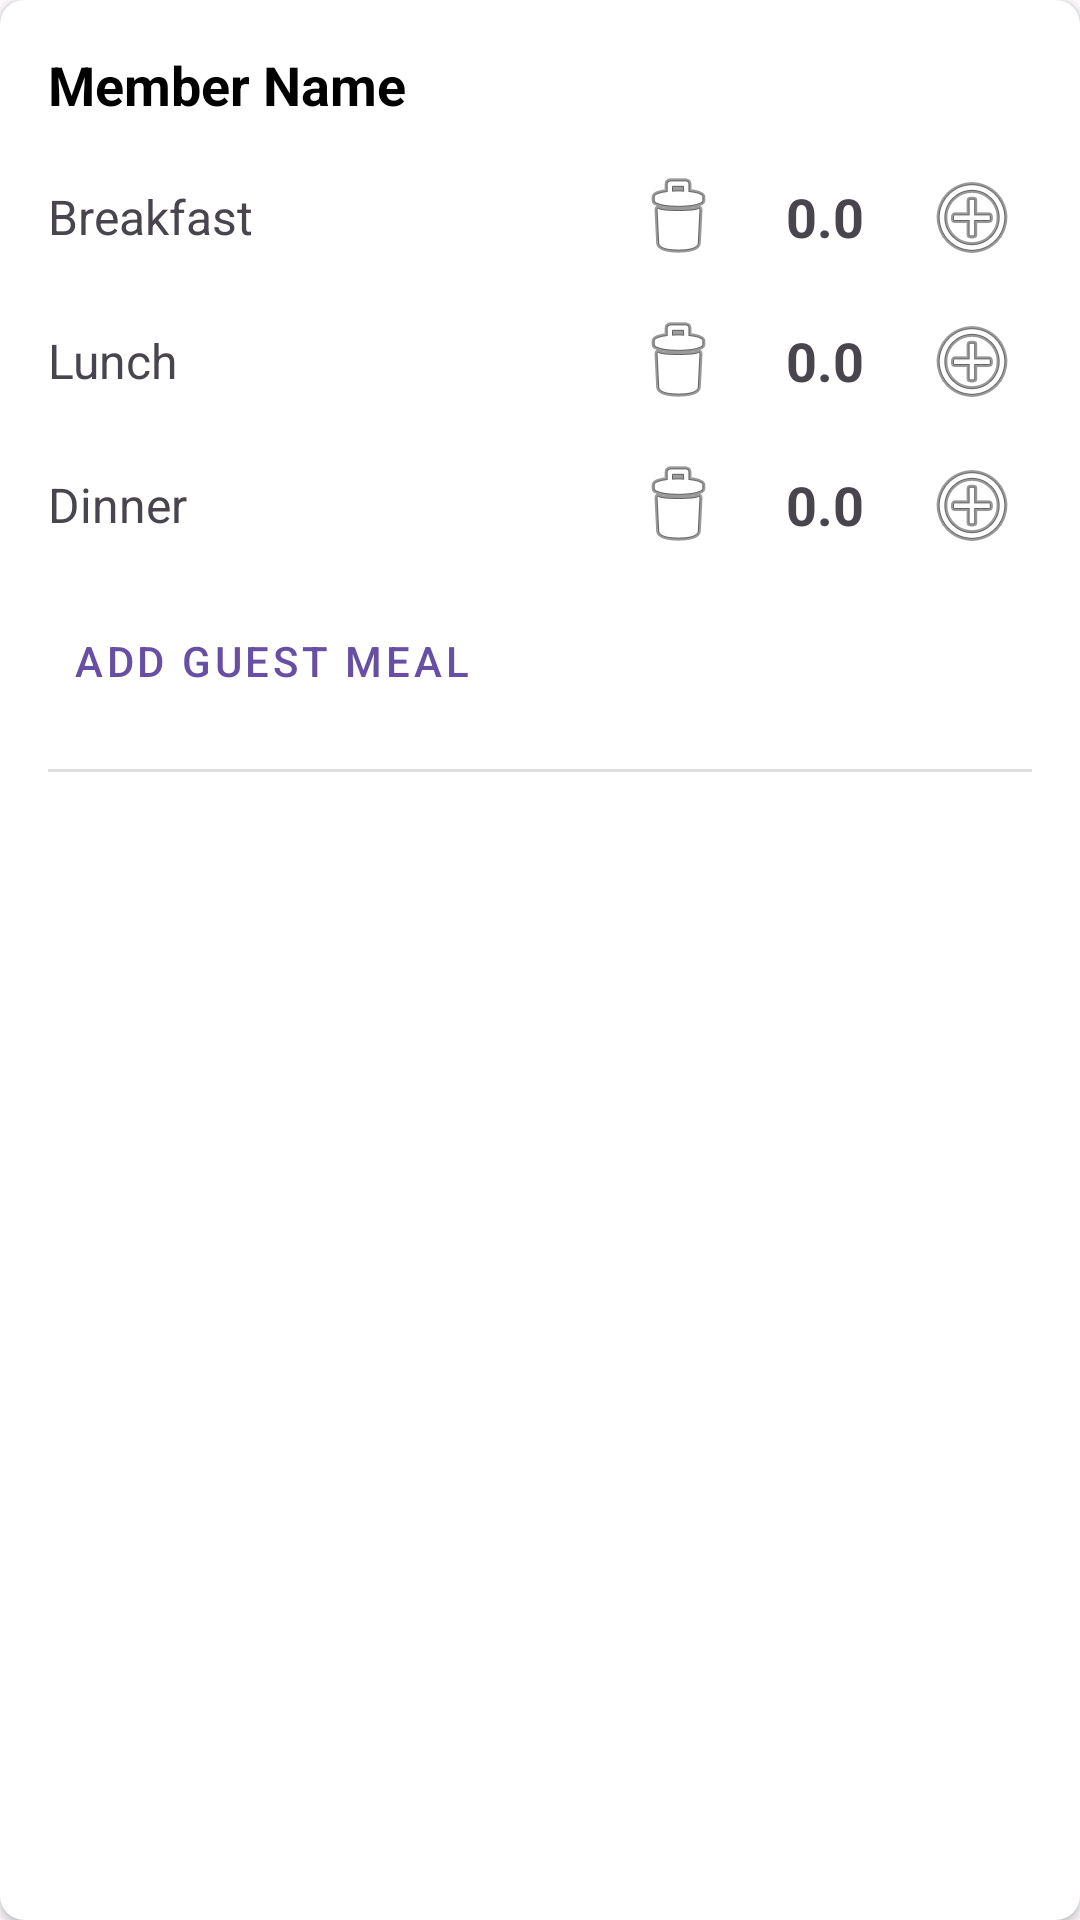

Point at icon controls on the screen. Image size 1080px x 1920px, points as point (x, y).
add: point (972, 217), point (972, 361), point (972, 505)
delete: point (678, 215), point (678, 359), point (678, 503)
